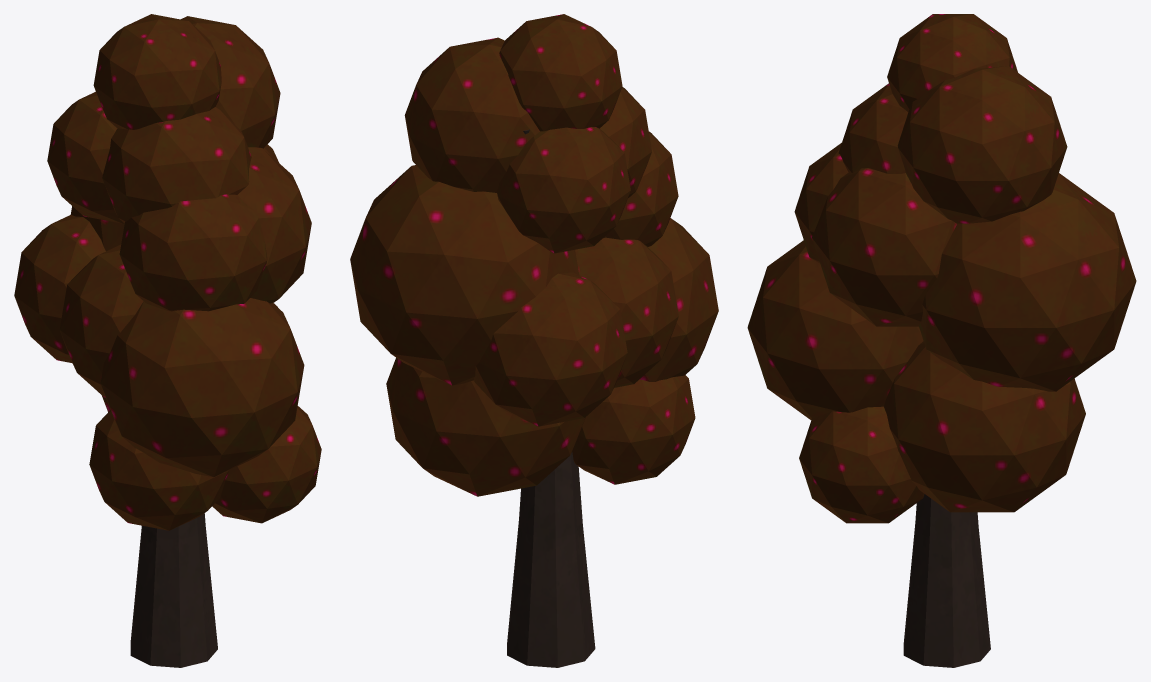
Rendered from tree-brown-red-flowers_7.fbx.
The picture shows the model from 3 angles, left to right: view 1: azimuth 30°, elevation 25°; view 2: azimuth 150°, elevation 25°; view 3: azimuth 270°, elevation 25°; orthographic projection.
Parts seen in each view (by area): view 1: Icosphere.139; view 2: Icosphere.139; view 3: Icosphere.139.
Boxes of the visible parts, x1,y1,x2,y2 form: Icosphere.139: (14,14,321,667); Icosphere.139: (350,14,718,667); Icosphere.139: (747,14,1136,667).
Bounding box in the file's own units: 149 × 357 × 201.
